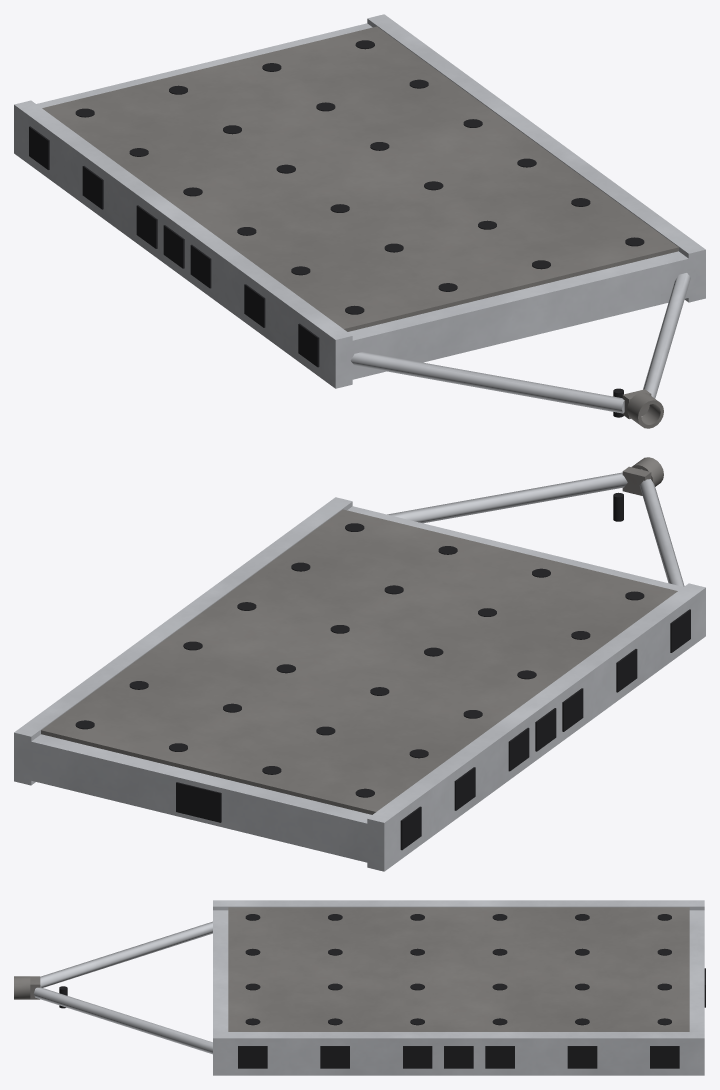
The model's file is rover38_trailer_frame_m.glb.
3 views of the same model, one above another, from view 1: azimuth 30°, elevation 25°; view 2: azimuth 150°, elevation 25°; view 3: azimuth 270°, elevation 25° (orthographic). The views are drawn at different scales.
Parts seen in each view (by area): view 1: deck_top, rails, end_beams, tongue, hardpoints, sockets_top, hitch_socket; view 2: deck_top, rails, end_beams, tongue, hardpoints, sockets_top, end_hardpoints, hitch_socket; view 3: deck_top, rails, hardpoints, tongue, end_beams, sockets_top, hitch_socket.
Part boxes in pixels (left/top/right/bottom): deck_top: left=42, top=26, right=678, bottom=331; rails: left=14, top=14, right=705, bottom=388; end_beams: left=36, top=23, right=688, bottom=379; tongue: left=350, top=273, right=690, bottom=413; hardpoints: left=29, top=126, right=319, bottom=367; sockets_top: left=75, top=40, right=644, bottom=314; hitch_socket: left=622, top=389, right=663, bottom=428; deck_top: left=41, top=509, right=677, bottom=814; rails: left=14, top=497, right=705, bottom=871; end_beams: left=31, top=506, right=683, bottom=862; tongue: left=387, top=472, right=684, bottom=586; hardpoints: left=400, top=609, right=690, bottom=850; sockets_top: left=75, top=523, right=644, bottom=797; end_hardpoints: left=176, top=782, right=221, bottom=822; hitch_socket: left=622, top=457, right=663, bottom=495; deck_top: left=228, top=907, right=689, bottom=1031; rails: left=213, top=900, right=704, bottom=1075; hardpoints: left=238, top=1046, right=679, bottom=1068; tongue: left=33, top=921, right=212, bottom=1054; end_beams: left=213, top=910, right=704, bottom=1031; sockets_top: left=245, top=914, right=671, bottom=1025; hitch_socket: left=14, top=976, right=40, bottom=999.
Bounding box in the file's own units: 2 × 0.25 × 4.2.
3 materials, 2 textured.
